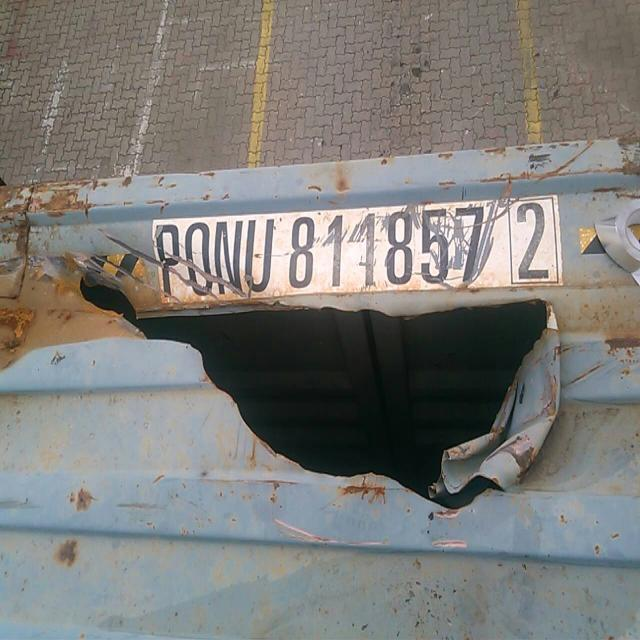hole: (71, 236, 574, 516)
